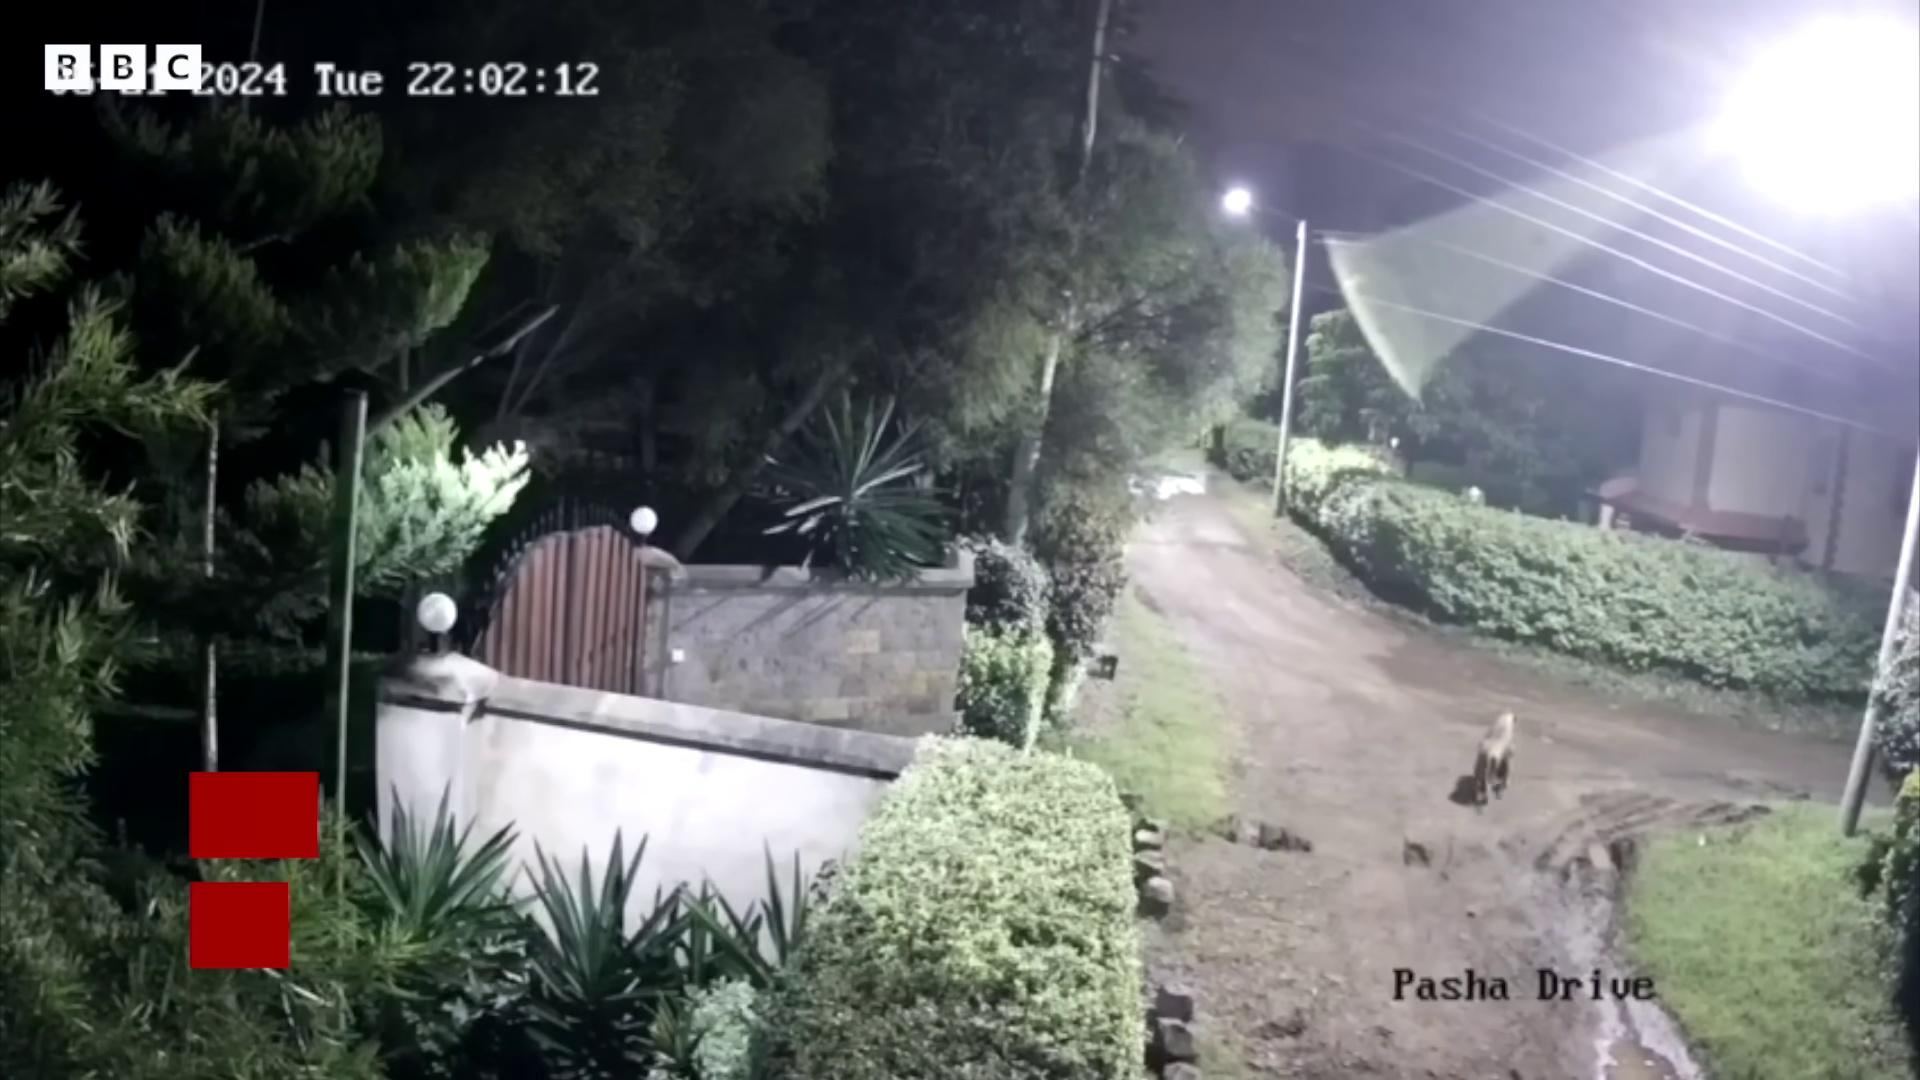lions: (1422, 676, 1567, 900)
